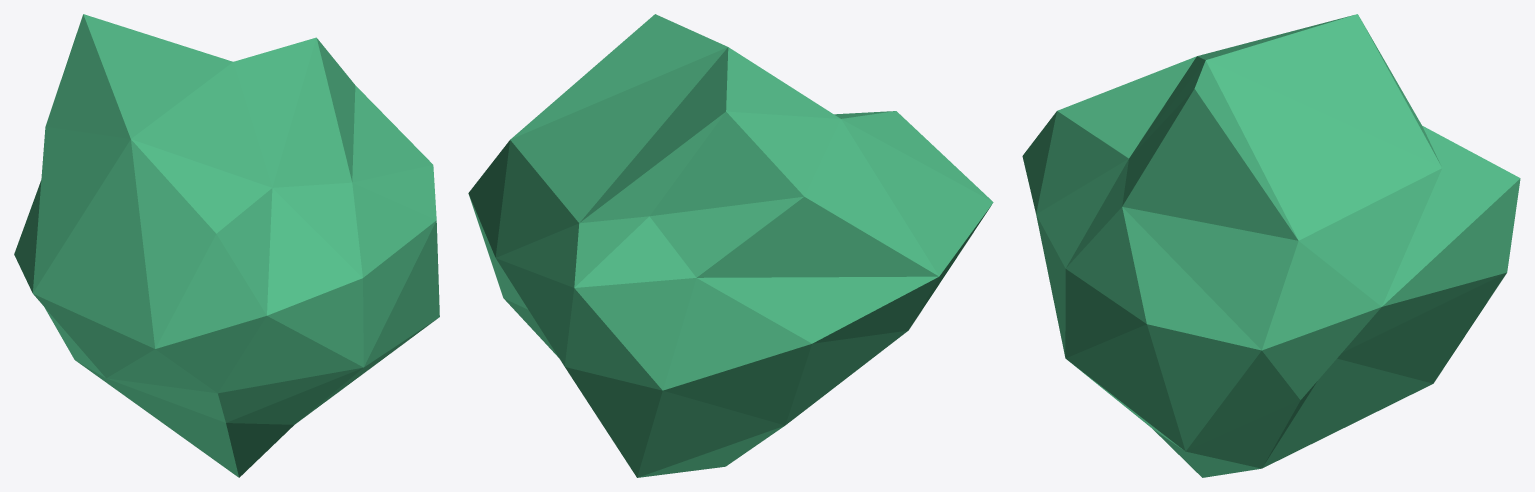
File: Bushes 01.fbx
3 views of the same model, side by side, from view 1: azimuth 30°, elevation 25°; view 2: azimuth 150°, elevation 25°; view 3: azimuth 270°, elevation 25° (orthographic).
Parts seen in each view (by area): view 1: Icosphere; view 2: Icosphere; view 3: Icosphere.
Part boxes in pixels (<box>): Icosphere: <box>14,14,439,477</box>; Icosphere: <box>468,14,993,477</box>; Icosphere: <box>1022,14,1520,477</box>.
Size of the model in its own units: 269 by 253 by 268.
